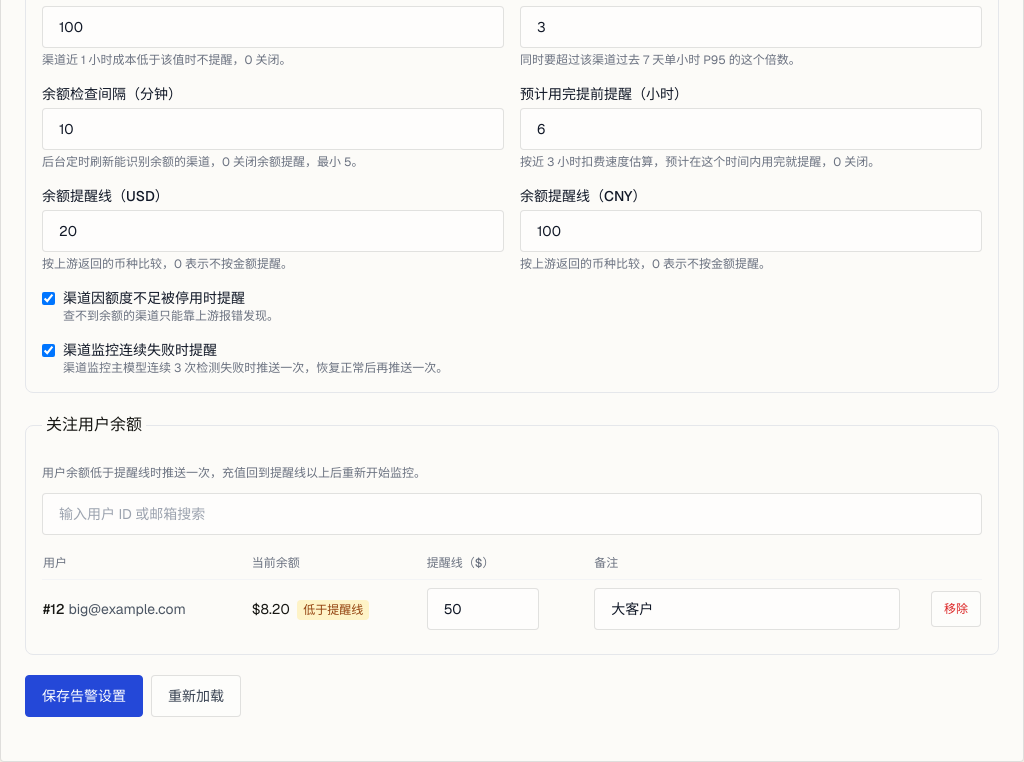
it: 企业微信告警设置 › 提醒线必须大于 0
(page scrolled)
Replace the text in the number field with test id "threshold-12" with "0": [483, 609] box [427,588,539,630]
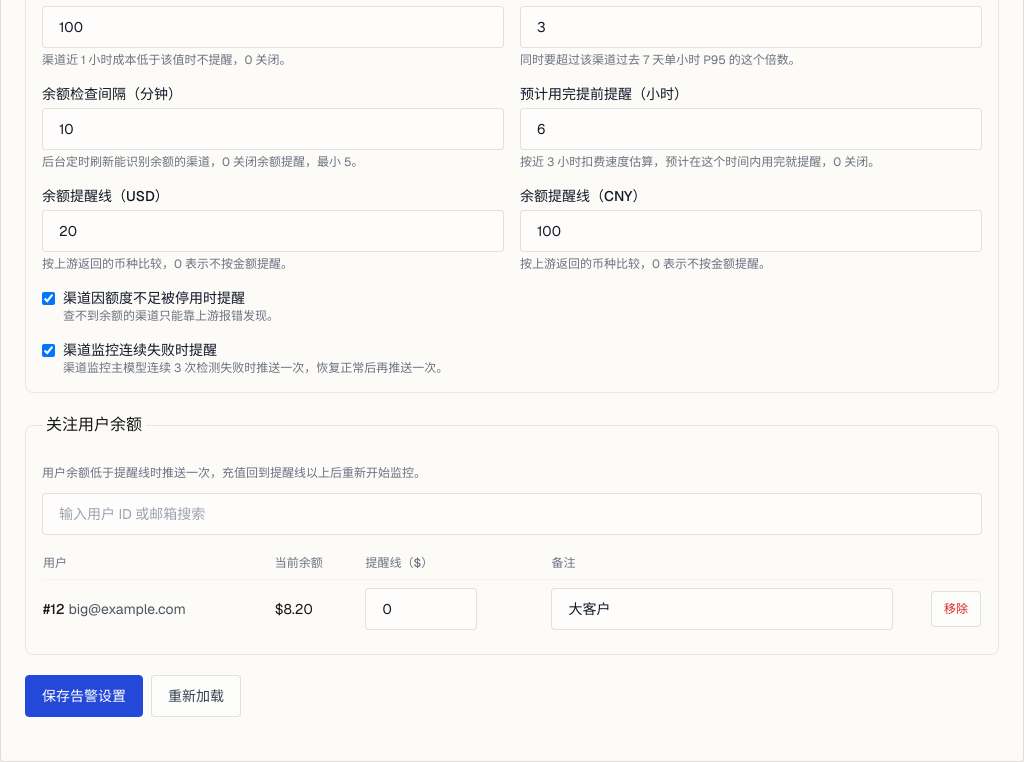
Click the button with test id "save": [84, 696] box [25,675,143,717]
(page scrolled)
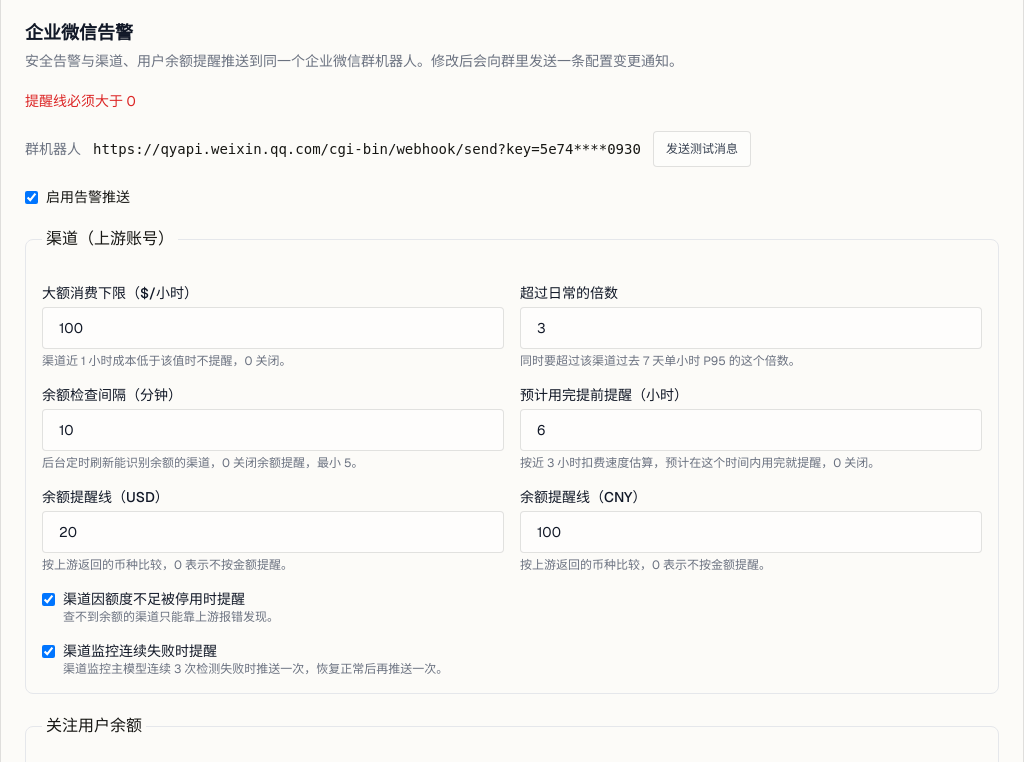
Result: the message "提醒线必须大于 0" is shown at [25,92,136,110]
